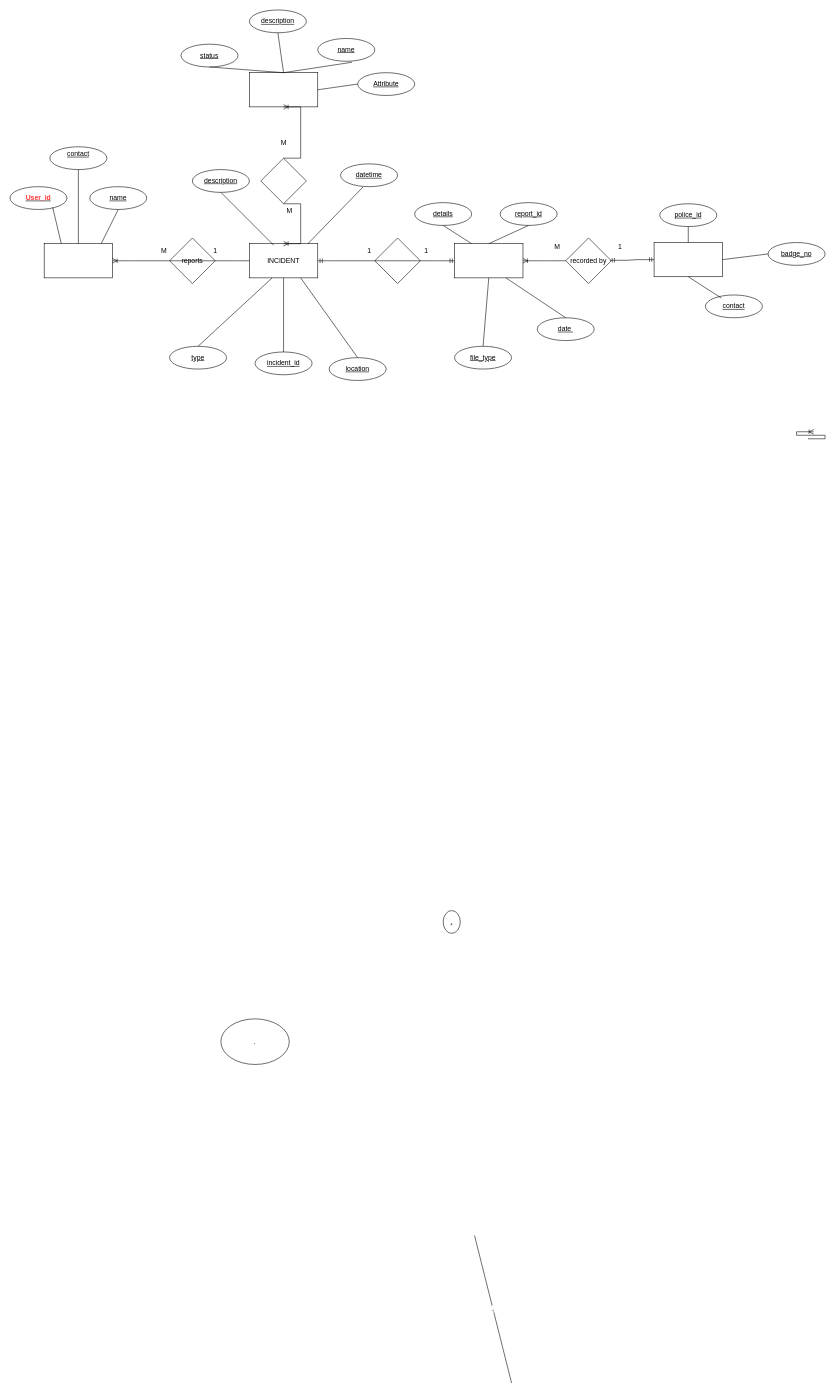
The diagram is 840 pixels wide and 1394 high, and some of its shapes have lost their labels. The centre of each missing label's shape, as x and y in pixels:
cause by: (x=283, y=181)
CRIMINAL: (x=283, y=89)
has: (x=397, y=260)
OFFICER: (x=688, y=259)
POLICE-REPORT: (x=488, y=260)
USER: (x=78, y=260)
